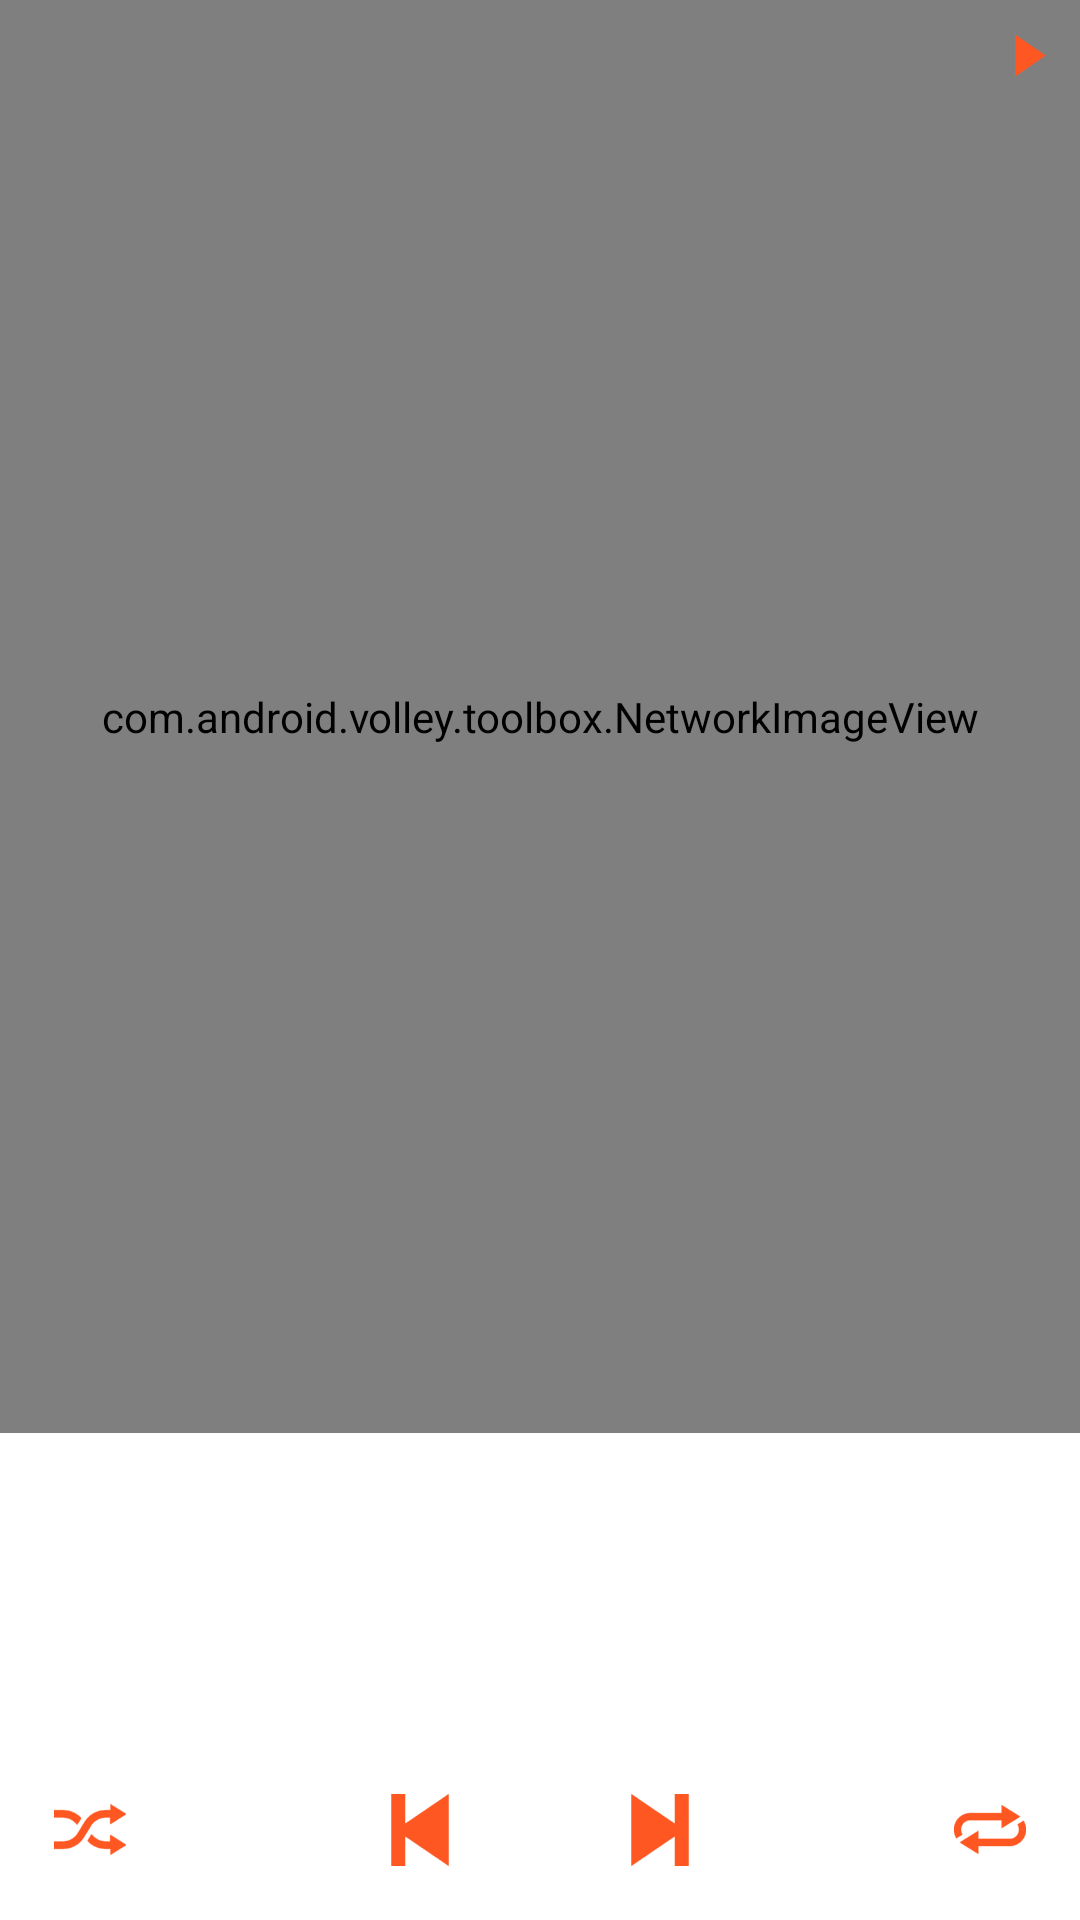

Icon bounding boxes for this 1080×1920 phone screenshot, format {"left": x1, "top": y1, "right": x2, "bottom": y2}:
next: {"left": 631, "top": 1794, "right": 689, "bottom": 1866}
play: {"left": 1015, "top": 35, "right": 1045, "bottom": 76}
previous: {"left": 391, "top": 1794, "right": 449, "bottom": 1866}
repeat: {"left": 954, "top": 1805, "right": 1026, "bottom": 1854}
shuffle: {"left": 54, "top": 1804, "right": 126, "bottom": 1855}
